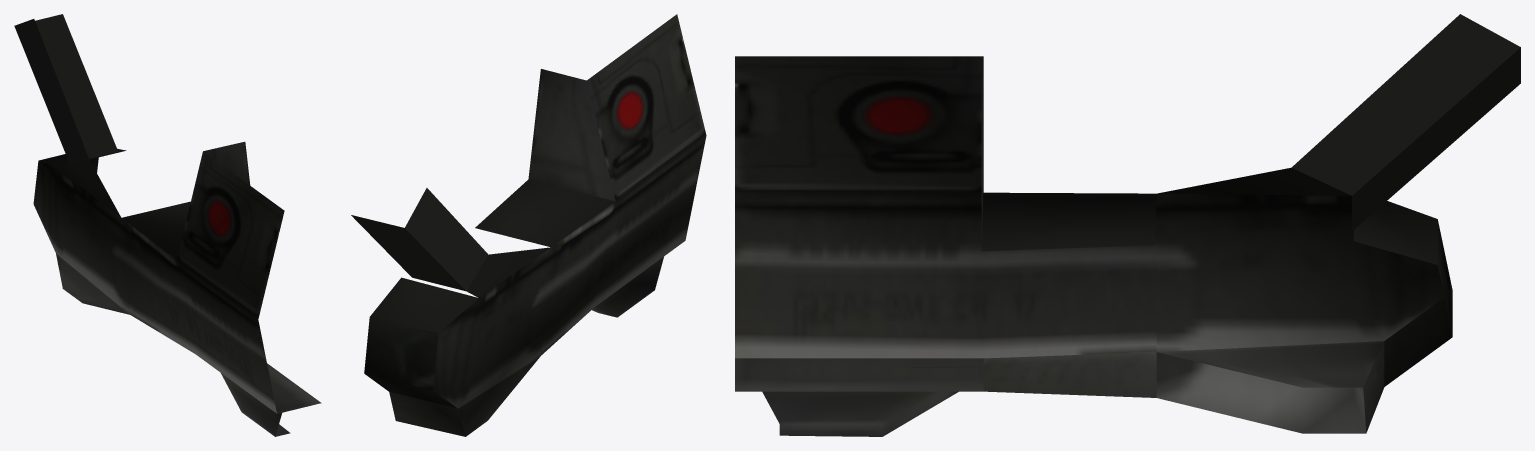
File: PISTOL.obj
The picture shows the model from 3 angles, left to right: view 1: azimuth 30°, elevation 25°; view 2: azimuth 150°, elevation 25°; view 3: azimuth 270°, elevation 25°; orthographic projection. The views are drawn at different scales.
Visible parts, largest first — view 1: pistol_pistol_q2_SS_v1_0000_submodel00_mesh0000.000; view 2: pistol_pistol_q2_SS_v1_0000_submodel00_mesh0000.000; view 3: pistol_pistol_q2_SS_v1_0000_submodel00_mesh0000.000.
Part boxes in pixels (box(x1,y1,x2,y2)): pistol_pistol_q2_SS_v1_0000_submodel00_mesh0000.000: box(14, 14, 321, 436); pistol_pistol_q2_SS_v1_0000_submodel00_mesh0000.000: box(351, 14, 706, 436); pistol_pistol_q2_SS_v1_0000_submodel00_mesh0000.000: box(735, 14, 1520, 436).
Bounding box in the file's own units: 0.46 × 1.45 × 2.6.
Materials: 1 (1 with a texture image).
